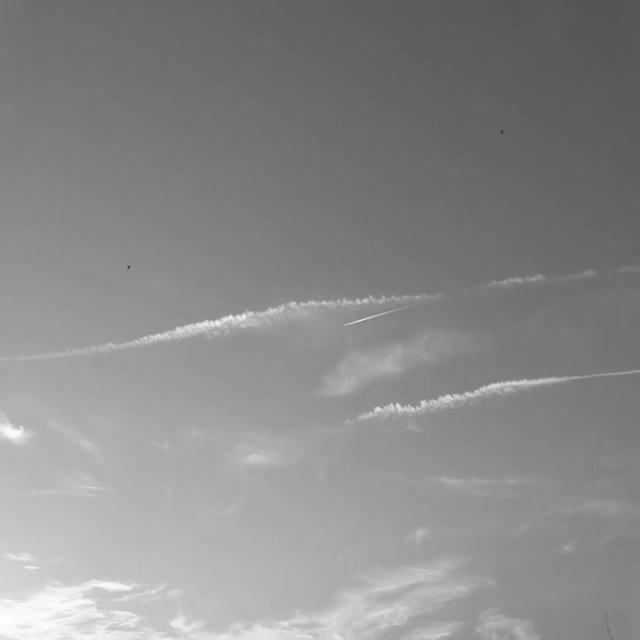drone: (126, 260, 137, 278), (499, 123, 508, 145)
